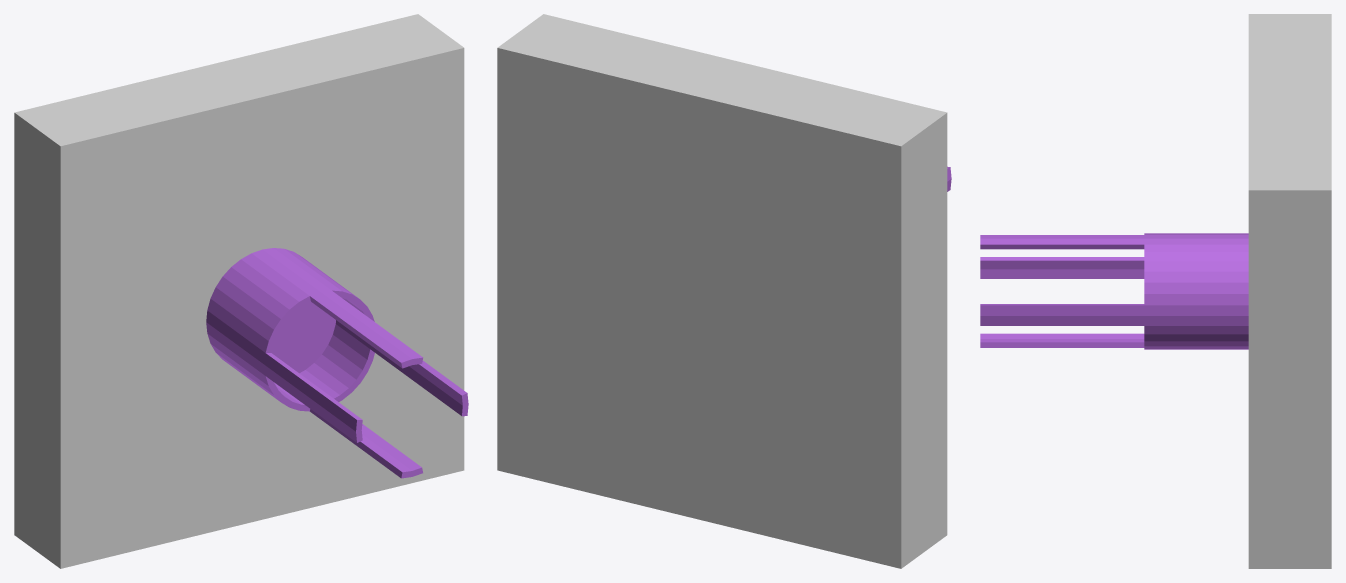
File: wall_mounted_laser_gun.glb
The picture shows the model from 3 angles, left to right: view 1: azimuth 30°, elevation 25°; view 2: azimuth 150°, elevation 25°; view 3: azimuth 270°, elevation 25°; orthographic projection. The views are drawn at different scales.
Parts seen in each view (by area): view 1: Cube; view 2: Cube; view 3: Cube.
Part boxes in pixels (x1,y1,x2,y2): Cube: (14, 14, 468, 568); Cube: (497, 14, 951, 568); Cube: (980, 14, 1331, 568).
Size of the model in its own units: 0.3202 by 0.3202 by 0.2691.
